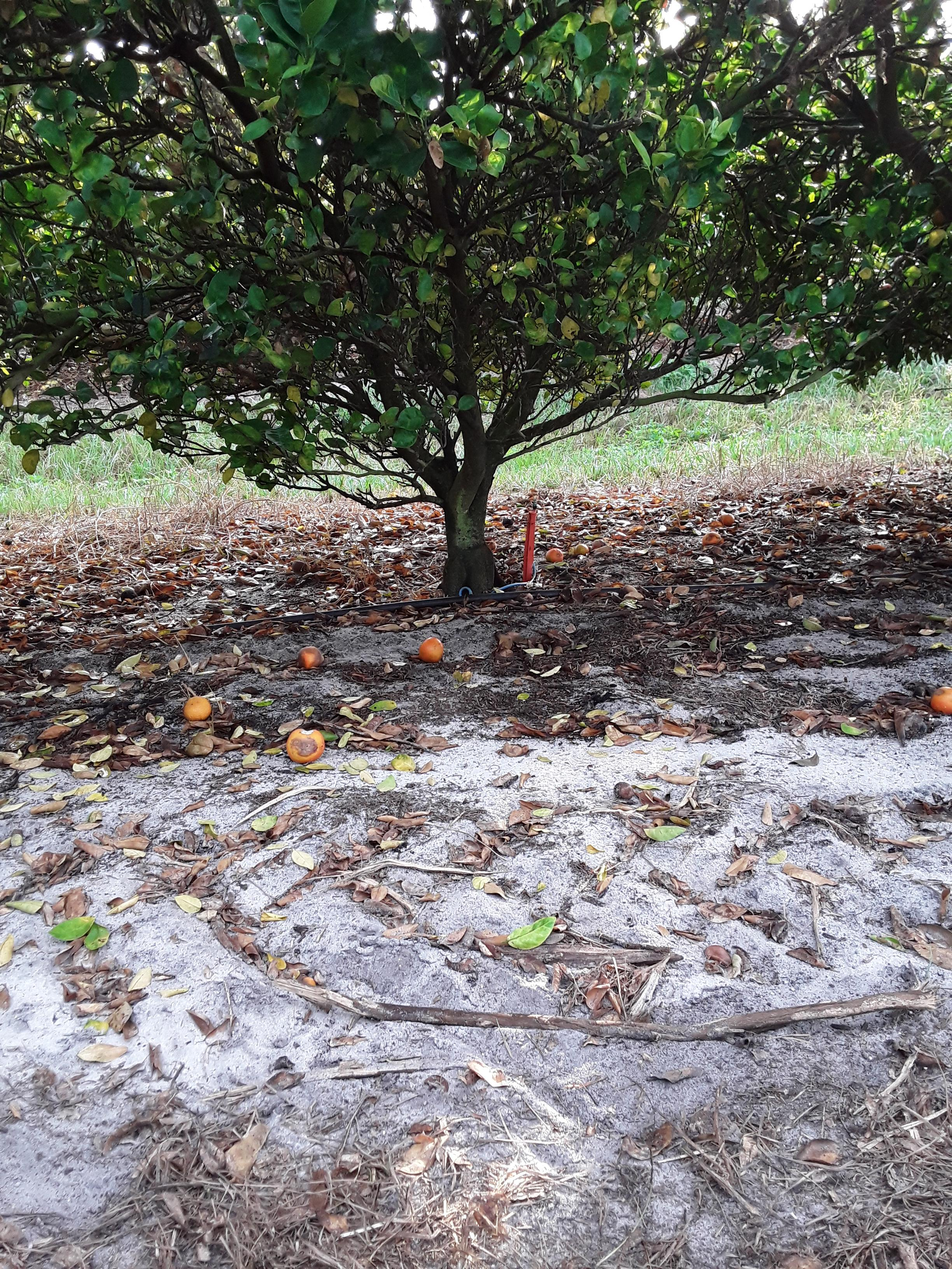fruit_on_ground: (824, 86, 861, 126), (853, 157, 881, 186), (825, 128, 849, 149), (931, 206, 952, 227), (810, 165, 830, 185), (765, 138, 787, 154)
fruit_on_tree: (287, 726, 327, 770), (289, 640, 332, 675), (178, 696, 218, 723), (415, 633, 446, 667), (929, 681, 952, 722), (718, 509, 741, 531), (571, 544, 598, 561), (696, 530, 726, 544), (543, 546, 563, 563), (119, 589, 140, 601), (14, 597, 33, 606)
